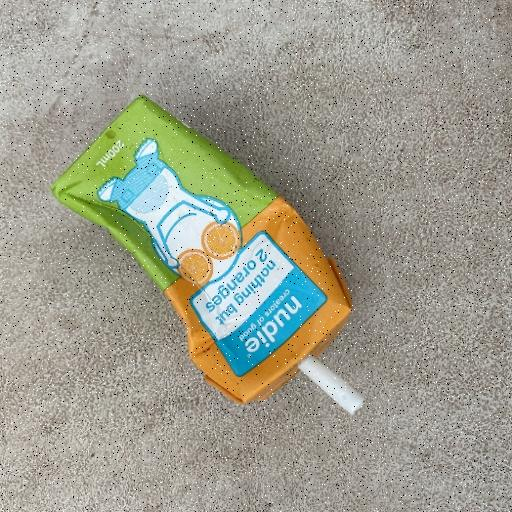Cardboard: (49, 92, 361, 410), (95, 136, 243, 290)
